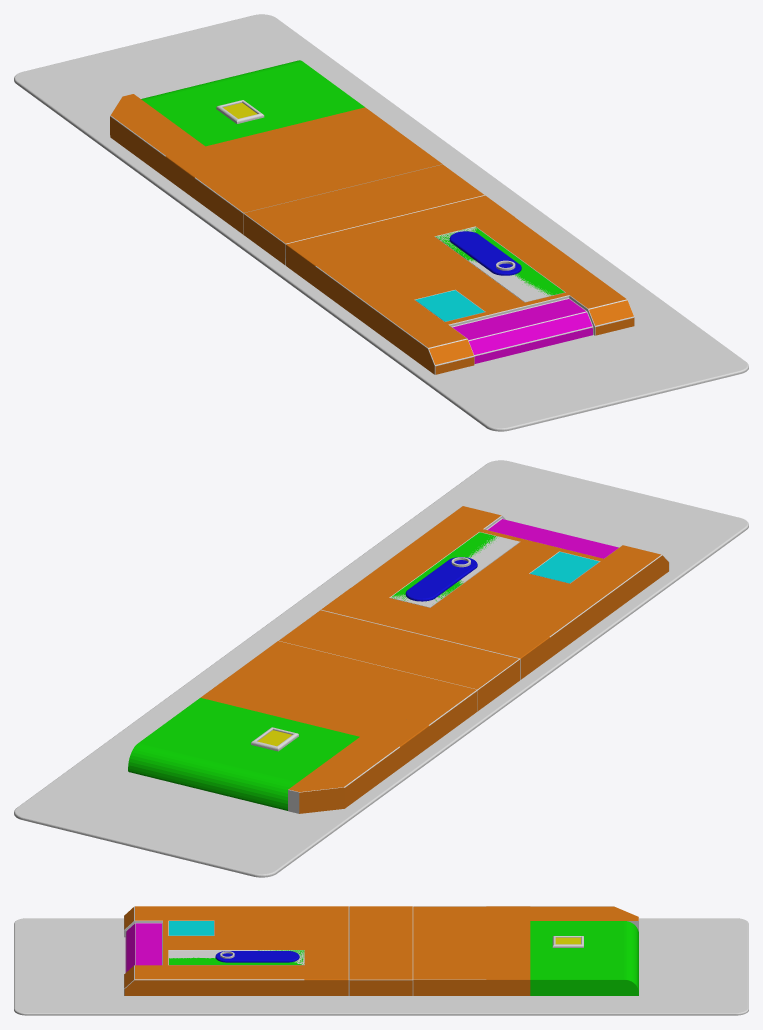
Rendered from SingleRoofPanel.fbx.
The picture shows the model from 3 angles, top to bottom: view 1: azimuth 30°, elevation 25°; view 2: azimuth 150°, elevation 25°; view 3: azimuth 270°, elevation 25°; orthographic projection. The views are drawn at different scales.
Visible parts, largest first — view 1: Cube.051; view 2: Cube.051; view 3: Cube.051.
Part boxes in pixels (x1,y1,x2,y2): Cube.051: [14, 14, 748, 431]; Cube.051: [14, 460, 748, 877]; Cube.051: [14, 906, 748, 1015].
Size of the model in its own units: 151 by 16 by 491.
